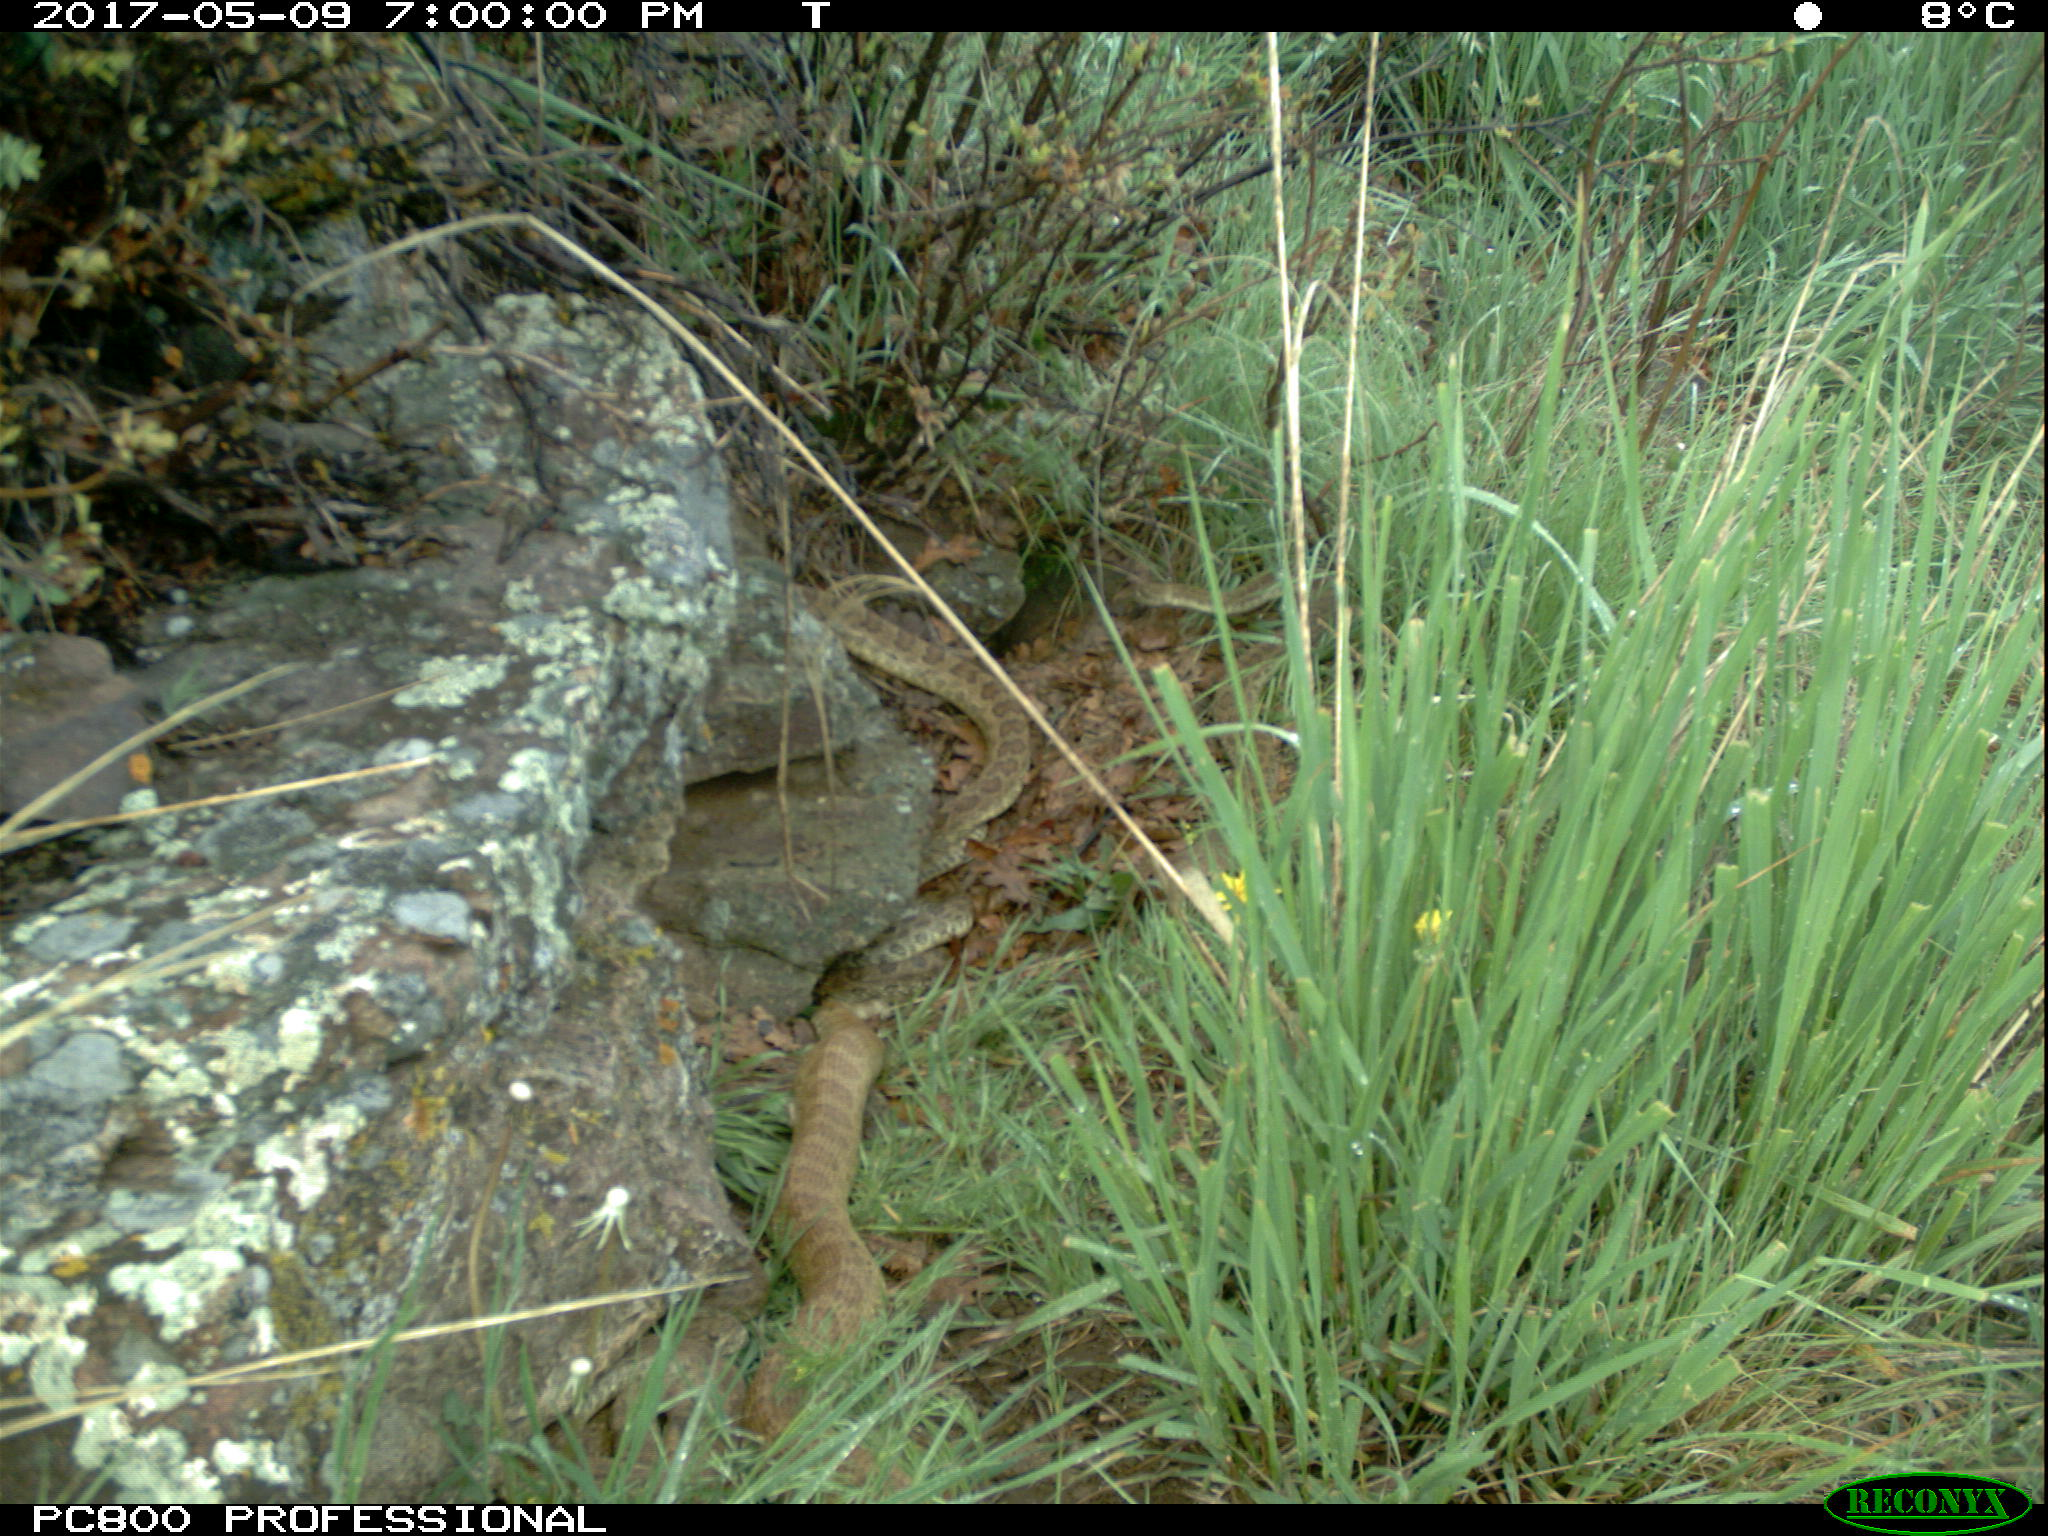snake: (745, 1000, 916, 1501), (798, 587, 1034, 837), (564, 1346, 734, 1483), (1134, 557, 1356, 636), (1192, 629, 1292, 786), (832, 886, 976, 989)
